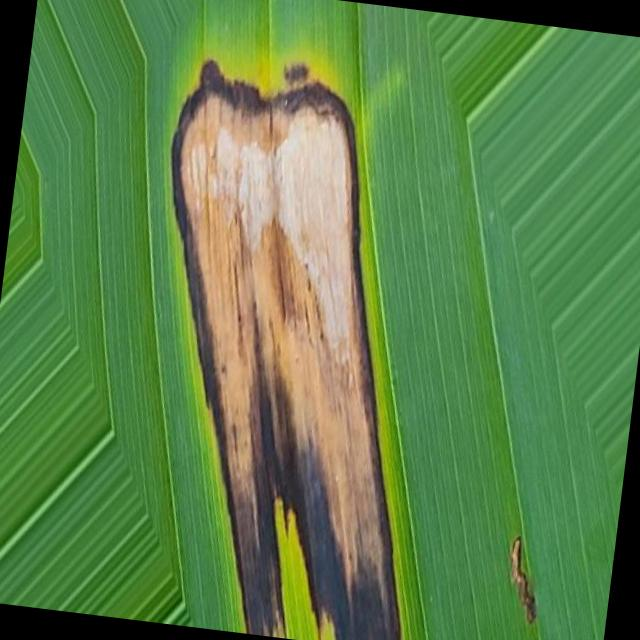Banana_Black_Sigatoka: (92, 38, 494, 640)
